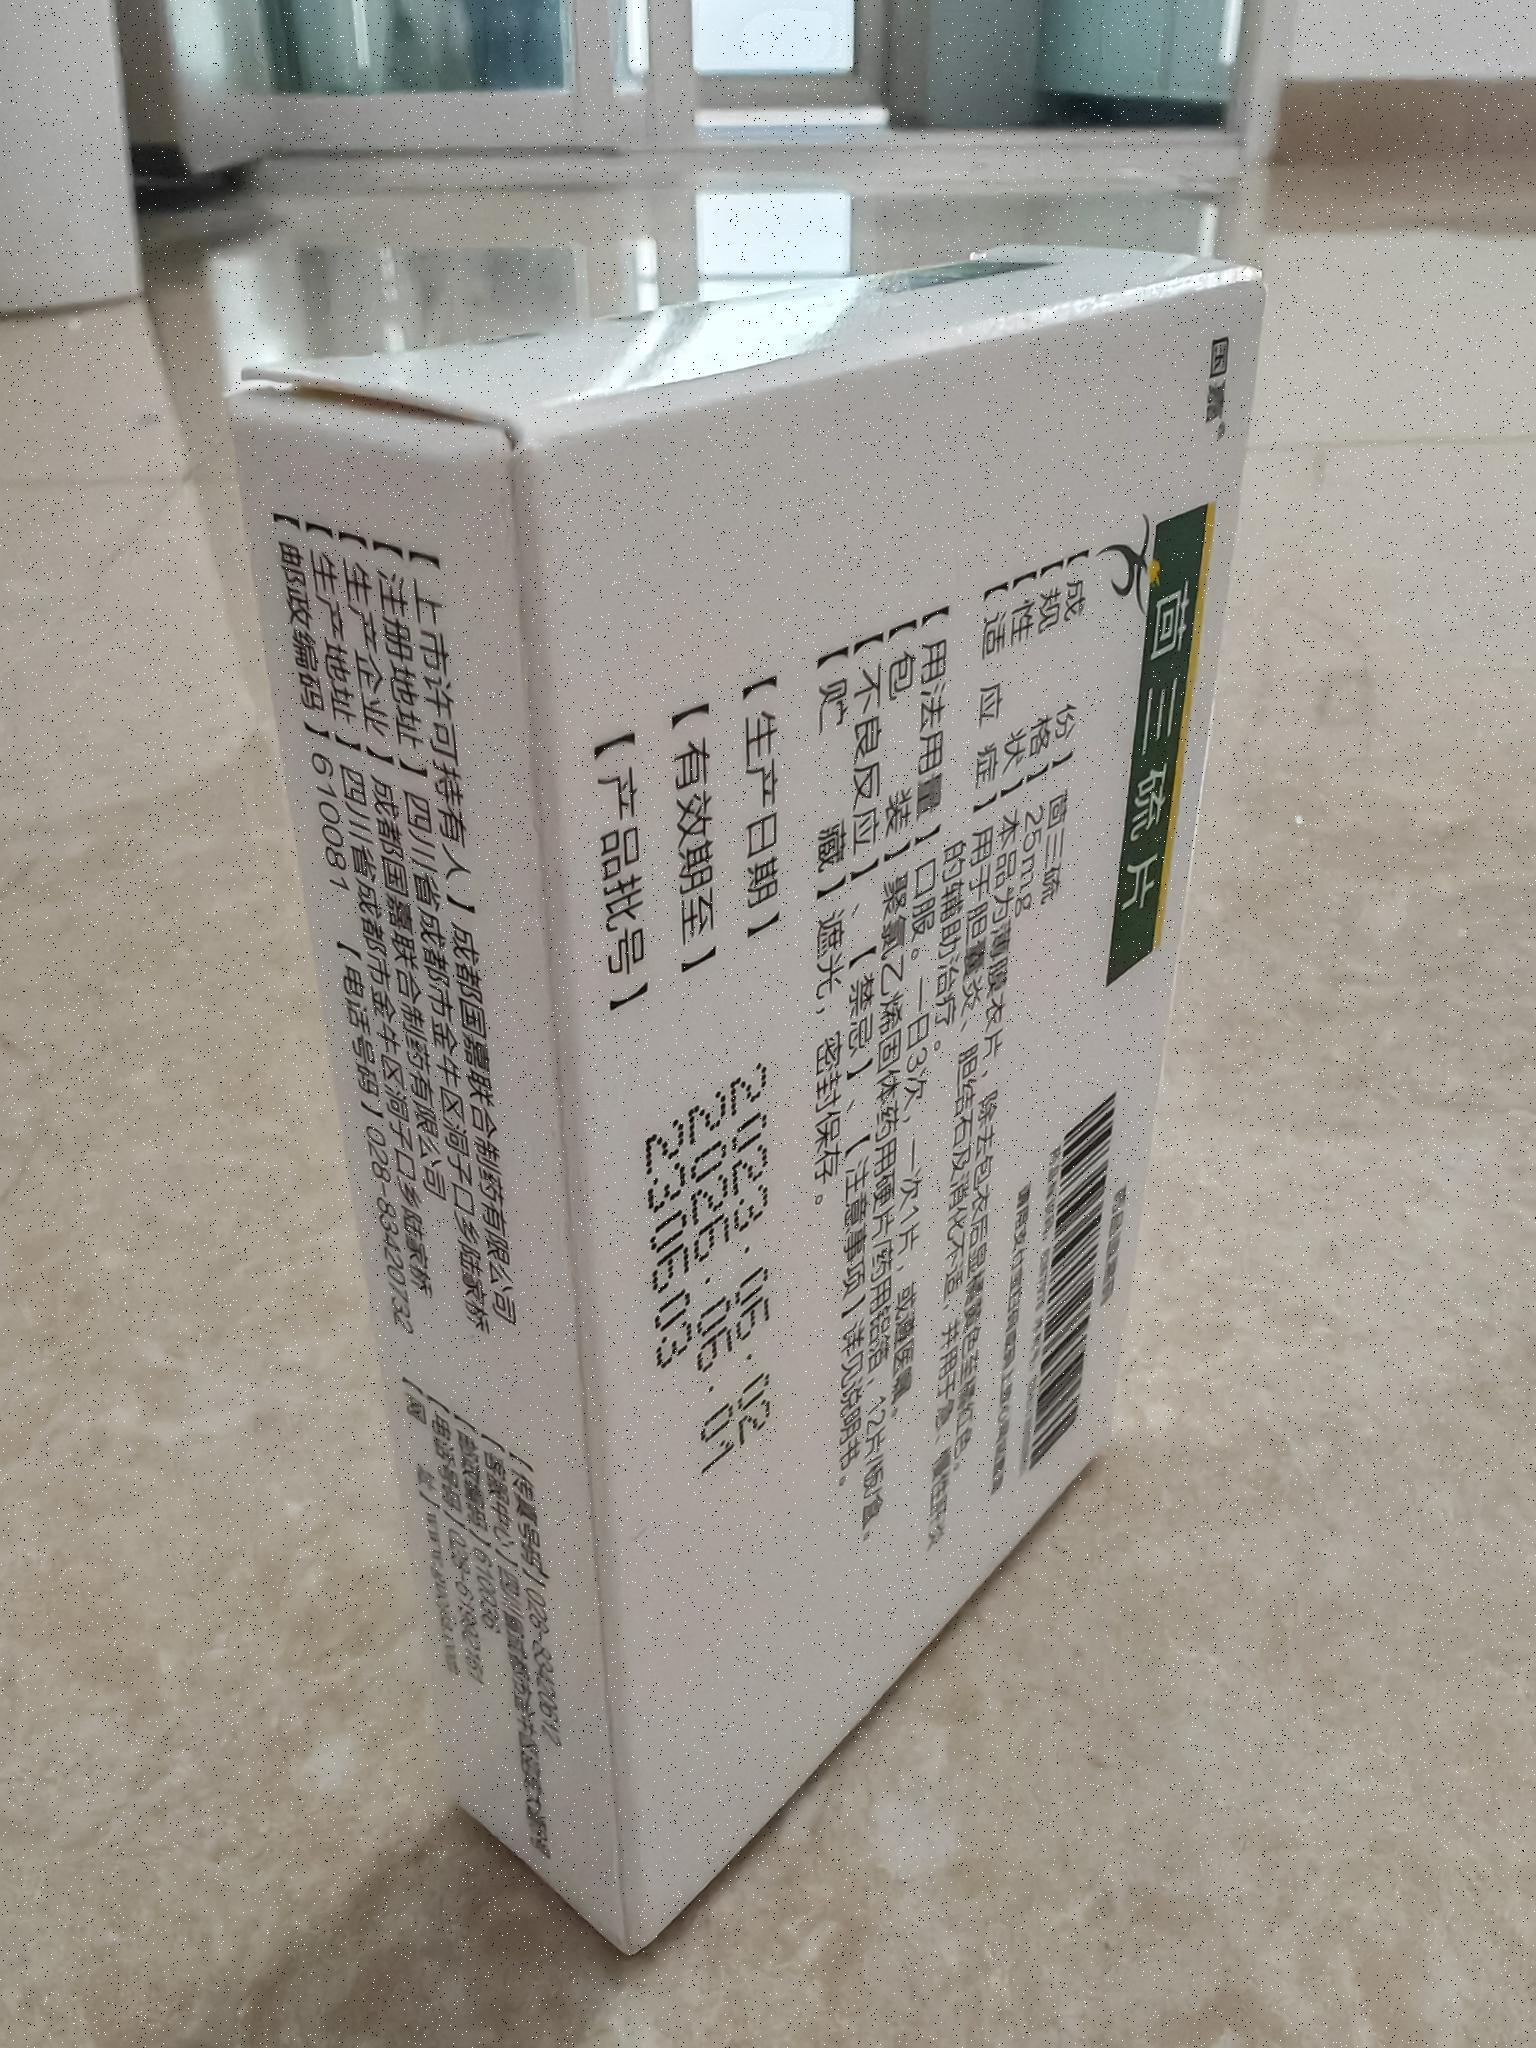Medicine4: (210, 231, 1310, 1987)
